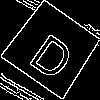D: (26, 24, 83, 83)
